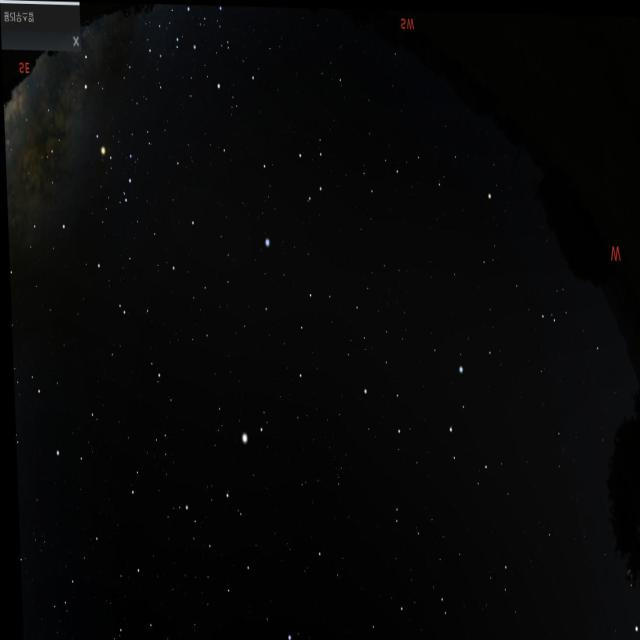bootes: (187, 419, 260, 614)
leo: (350, 337, 494, 500)
scorpius: (64, 54, 148, 222)
